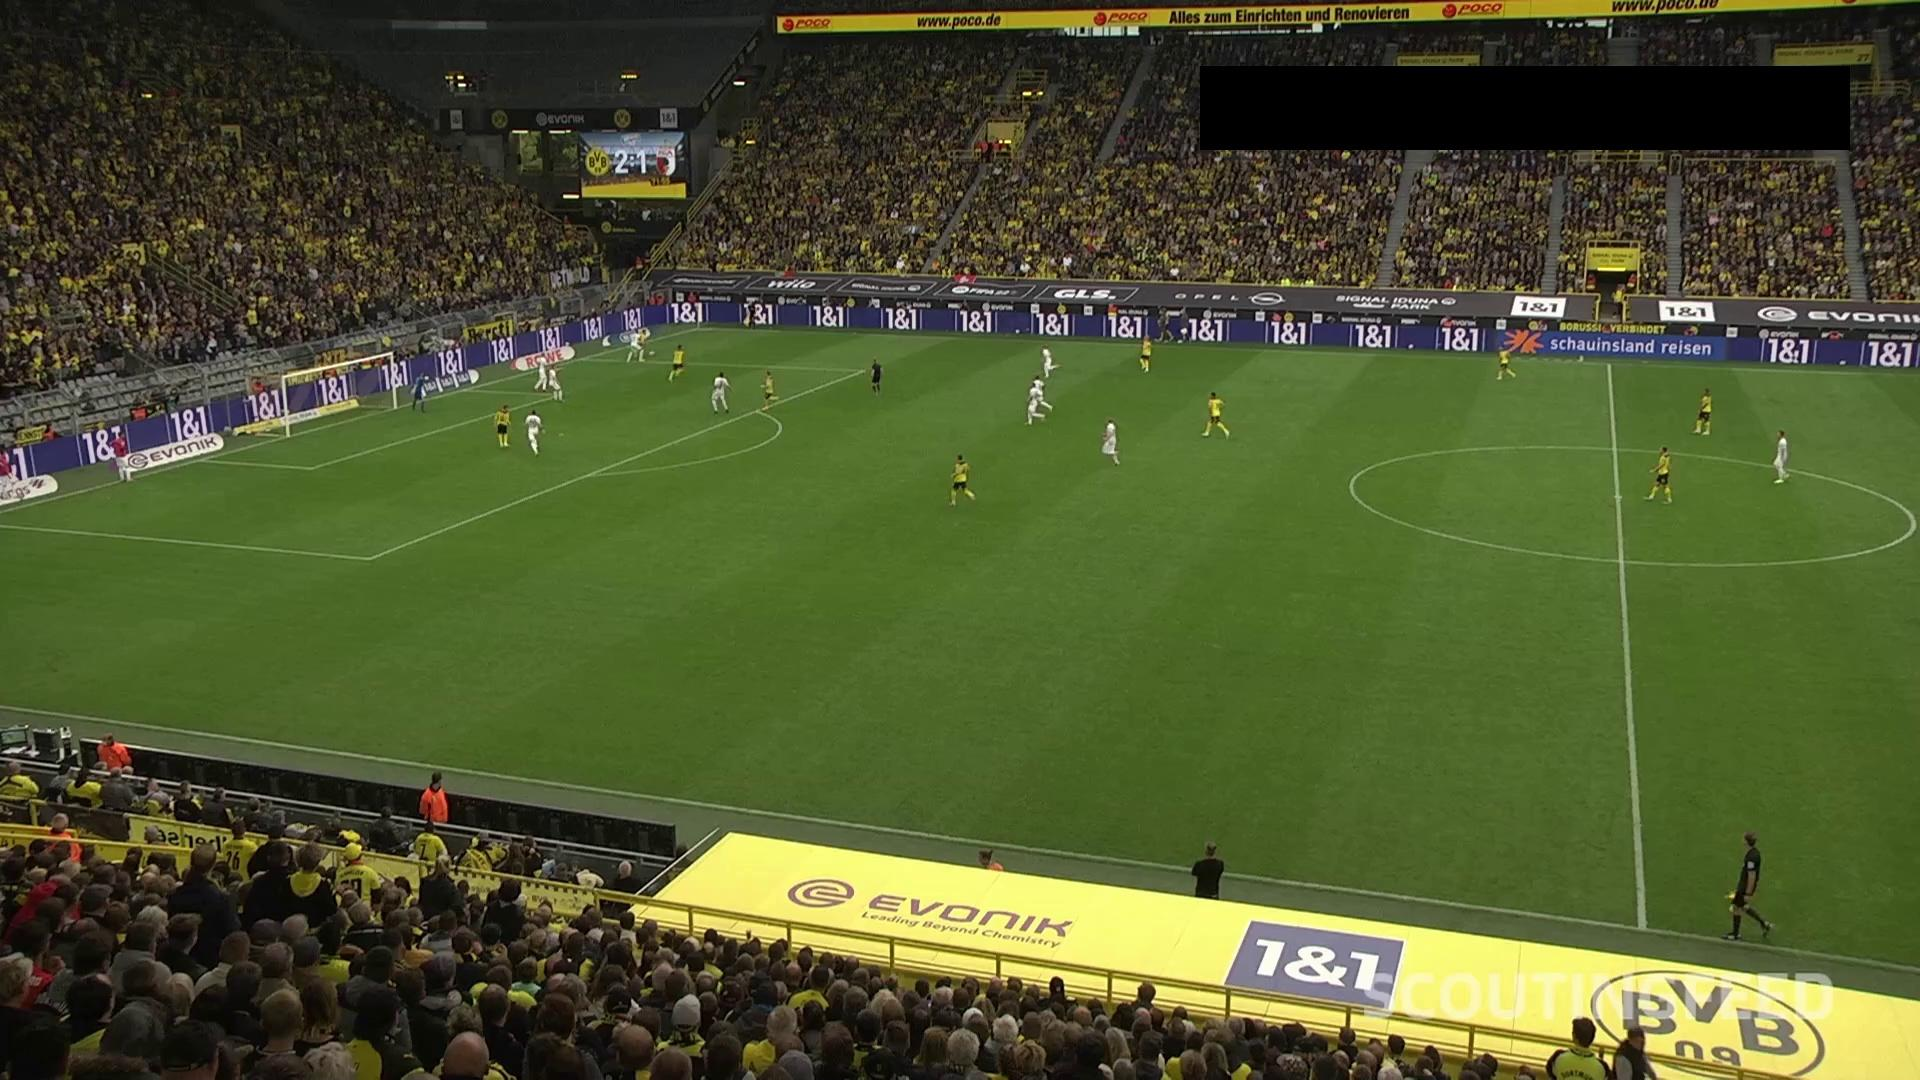Location-of-ball: (642, 343, 661, 364)
